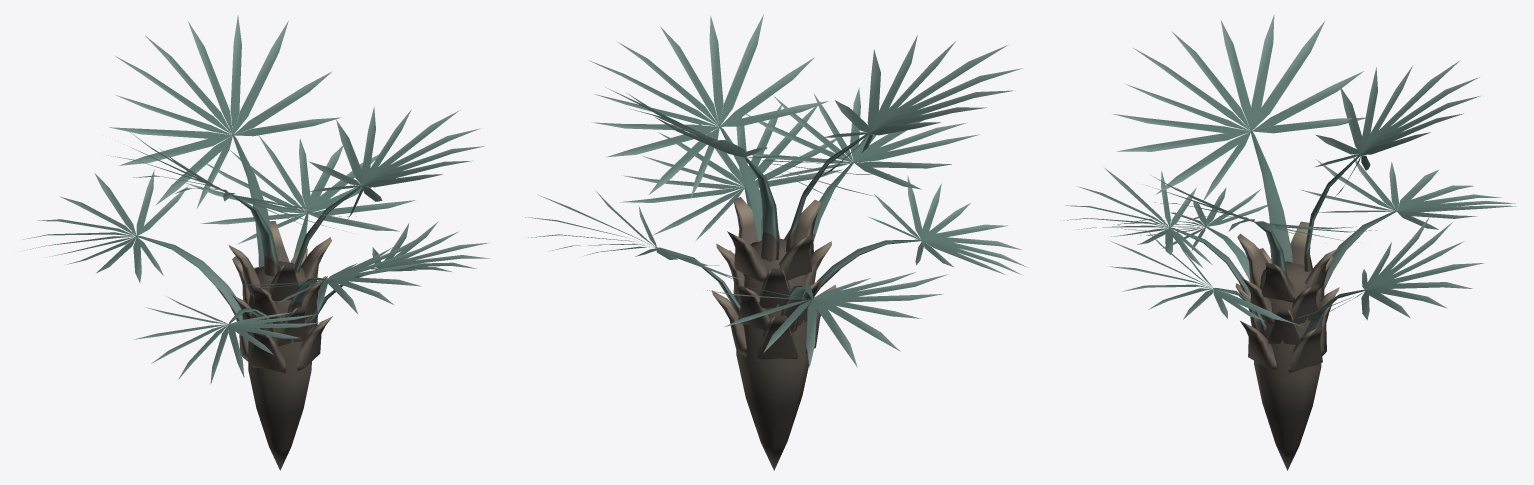
The picture shows the model from 3 angles, left to right: view 1: azimuth 30°, elevation 25°; view 2: azimuth 150°, elevation 25°; view 3: azimuth 270°, elevation 25°; orthographic projection. The views are drawn at different scales.
Parts seen in each view (by area): view 1: plant.023; view 2: plant.023; view 3: plant.023.
Part boxes in pixels (left/top/right/bottom): plant.023: left=23, top=15, right=489, bottom=470; plant.023: left=522, top=14, right=1027, bottom=470; plant.023: left=1060, top=14, right=1516, bottom=470.
Size of the model in its own units: 0.4557 by 0.454 by 0.5.
